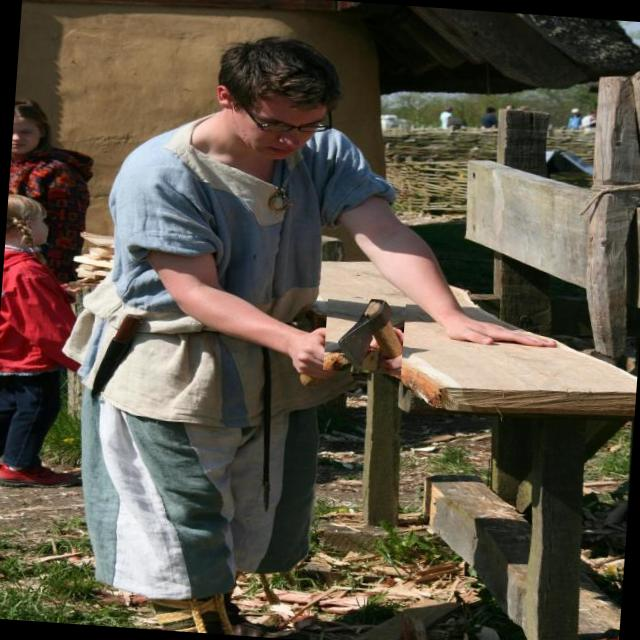Axe: (324, 298, 402, 372)
